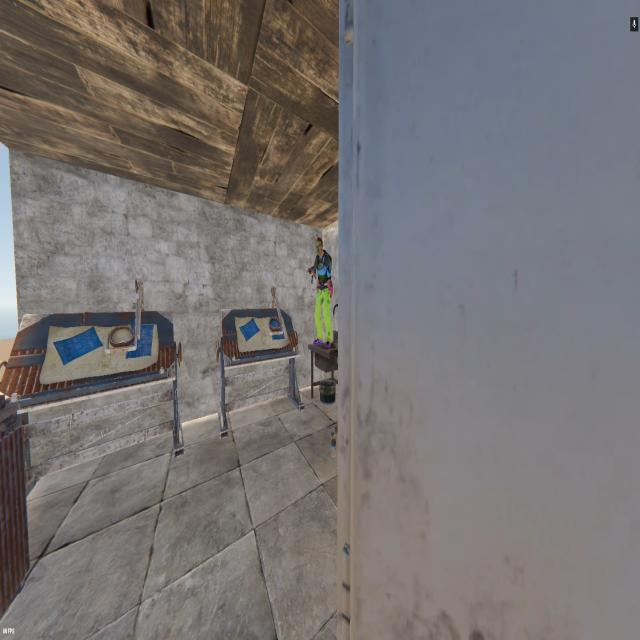Player: (310, 233, 335, 350)
